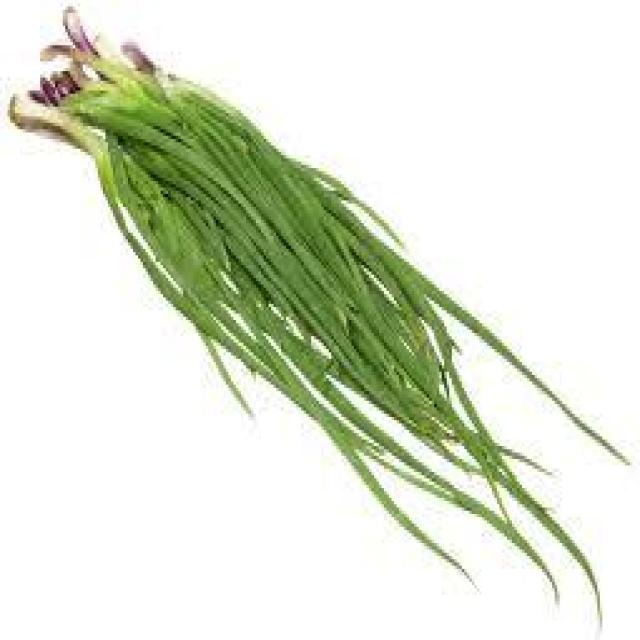Onion: (8, 2, 632, 635)
